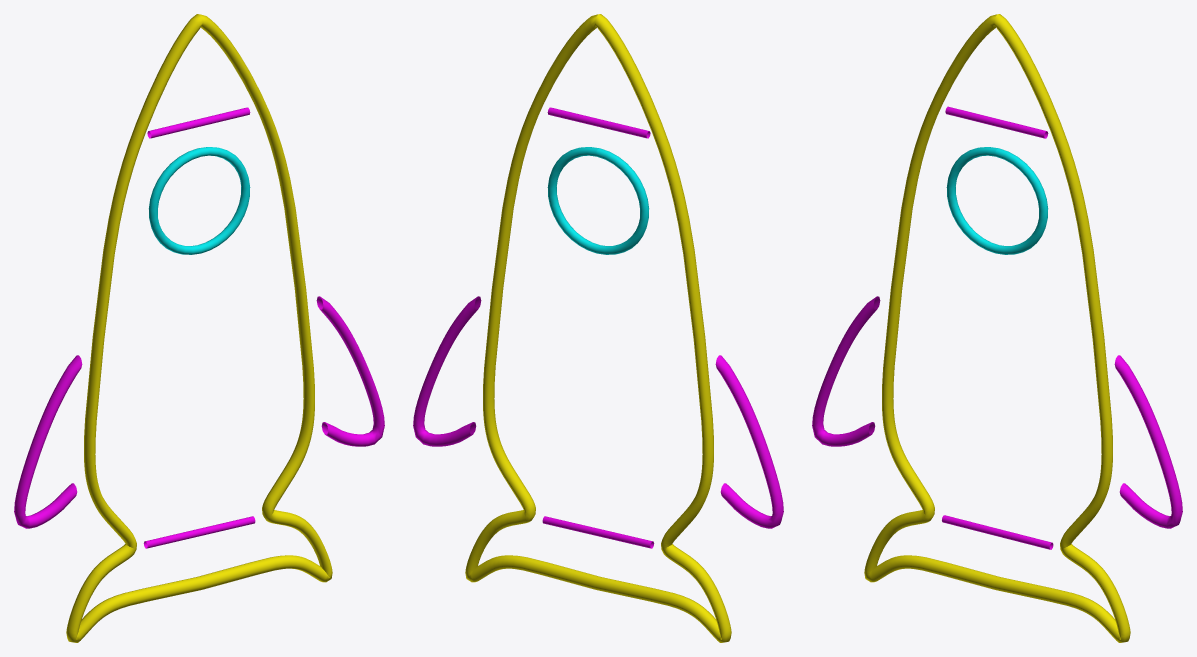
The model's file is Rocket_NEON_sign.fbx.
The picture shows the model from 3 angles, left to right: view 1: azimuth 30°, elevation 25°; view 2: azimuth 150°, elevation 25°; view 3: azimuth 330°, elevation 25°; orthographic projection.
Visible parts, largest first — view 1: sweep15, sweep16, sweep17, sweep19, sweep18; view 2: sweep15, sweep16, sweep17, sweep19, sweep18; view 3: sweep15, sweep16, sweep17, sweep19, sweep18.
Boxes of the visible parts, x1,y1,x2,y2 form: sweep15: [66, 14, 332, 642]; sweep16: [14, 296, 384, 528]; sweep17: [148, 147, 250, 254]; sweep19: [143, 516, 255, 548]; sweep18: [147, 107, 250, 138]; sweep15: [465, 14, 731, 642]; sweep16: [413, 296, 783, 528]; sweep17: [547, 147, 649, 254]; sweep19: [542, 516, 654, 548]; sweep18: [547, 107, 650, 138]; sweep15: [864, 14, 1130, 642]; sweep16: [812, 296, 1182, 528]; sweep17: [946, 147, 1048, 254]; sweep19: [942, 515, 1053, 549]; sweep18: [945, 106, 1048, 138].
Size of the model in its own units: 53.87 by 83.54 by 1.82.
